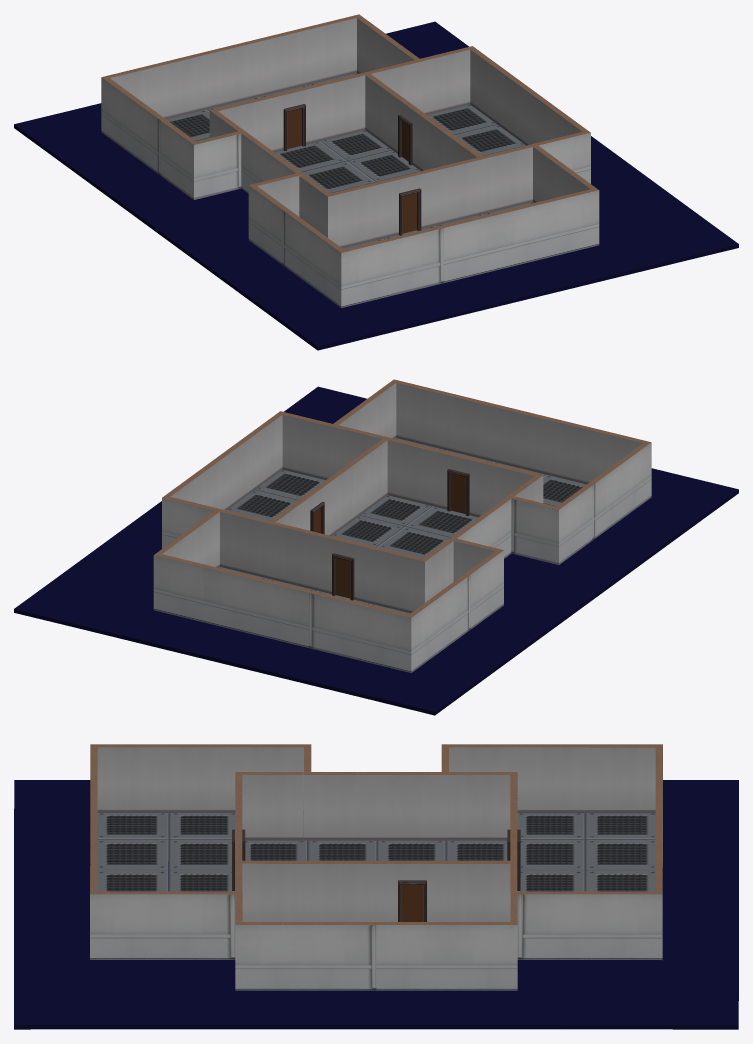
File: office3b.fbx
The picture shows the model from 3 angles, top to bottom: view 1: azimuth 30°, elevation 25°; view 2: azimuth 150°, elevation 25°; view 3: azimuth 270°, elevation 25°; orthographic projection. The views are drawn at different scales.
Visible parts, largest first — view 1: polySurface1, floor, insidewall, slidingdoor_2, slidingdoor_3; view 2: polySurface1, floor, insidewall, slidingdoor_2, slidingdoor_3; view 3: floor, polySurface1, insidewall, slidingdoor_1.
Boxes of the visible parts, x1,y1,x2,y2 form: polySurface1: (101,14,599,307); floor: (14,21,738,350); insidewall: (209,60,532,248); slidingdoor_2: (402,193,416,233); slidingdoor_3: (287,108,301,149); polySurface1: (153,379,651,672); floor: (14,386,738,715); insidewall: (220,425,543,613); slidingdoor_2: (451,473,465,513); slidingdoor_3: (336,558,350,598); floor: (14,780,738,1029); polySurface1: (90,744,662,990); insidewall: (232,772,520,921); slidingdoor_1: (401,885,423,921).
Bounding box in the file's own units: 80.03 × 11.03 × 100.
